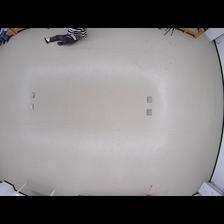fall: (44, 26, 90, 46)
